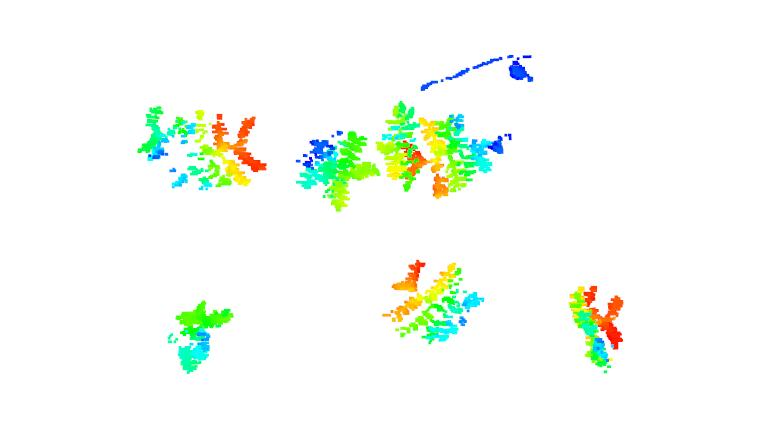chickpea: (134, 104, 268, 193), (375, 102, 494, 196), (384, 258, 483, 349), (292, 128, 380, 215), (567, 282, 629, 373), (164, 301, 235, 377)
